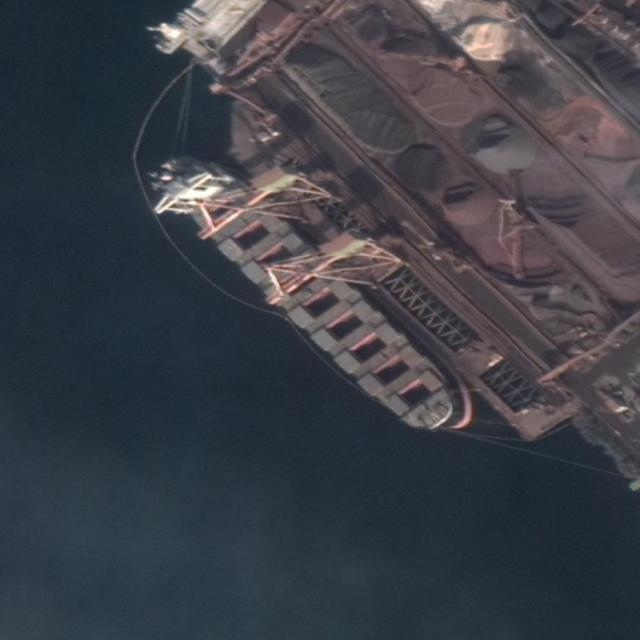Cargo: (131, 115, 490, 478)
